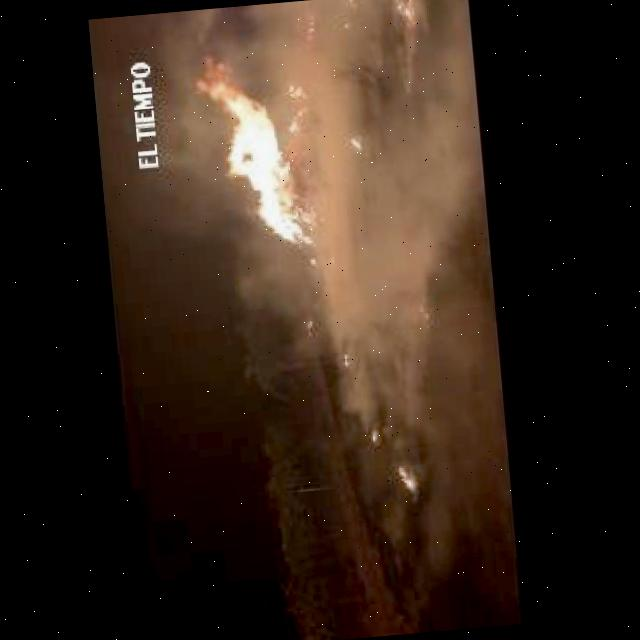fire: (198, 50, 317, 278), (386, 0, 419, 29)
